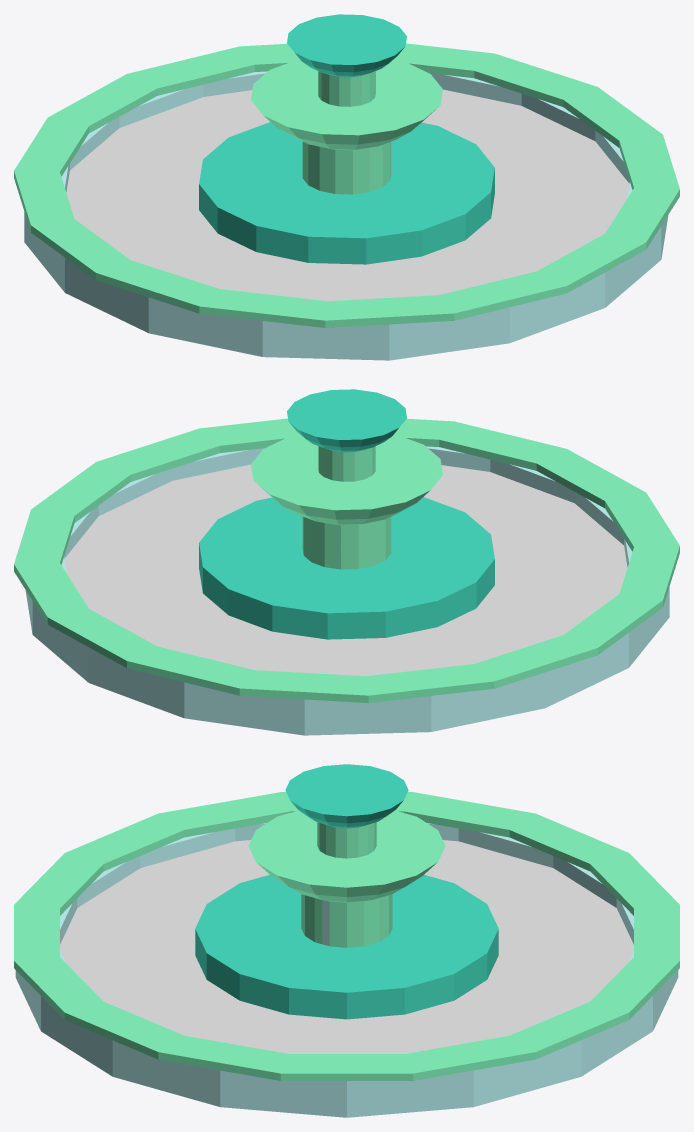
Rendered from spring.fbx.
3 renders of one model, top to bottom at view 1: azimuth 30°, elevation 25°; view 2: azimuth 150°, elevation 25°; view 3: azimuth 270°, elevation 25°, orthographic.
Parts seen in each view (by area): view 1: Spring, Water; view 2: Spring, Water; view 3: Spring, Water.
Part boxes in pixels (left/top/right/bottom): Spring: left=14, top=14, right=679, bottom=360; Water: left=66, top=89, right=629, bottom=301; Spring: left=14, top=389, right=679, bottom=735; Water: left=64, top=464, right=627, bottom=676; Spring: left=14, top=764, right=679, bottom=1117; Water: left=60, top=840, right=633, bottom=1053.
Size of what is drawn, in the model's own units: 804 by 250 by 804.
